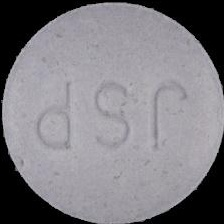58118-1343: (0, 0, 224, 224)
